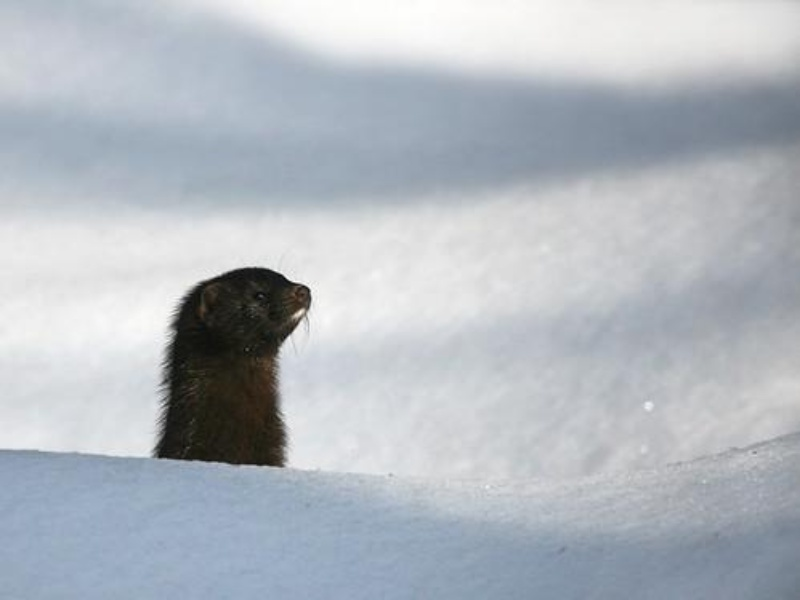minkish: (147, 261, 314, 467)
